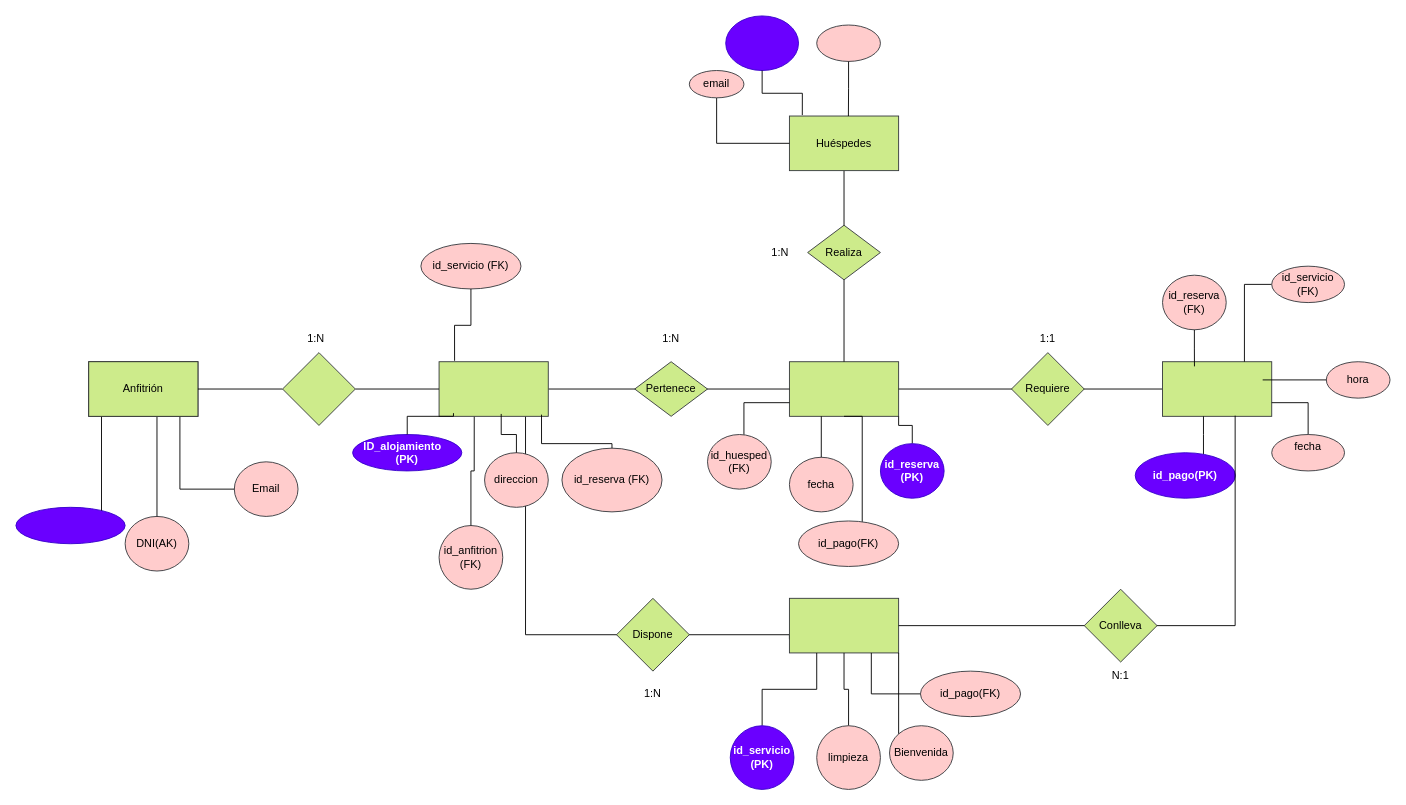
Image size: 1406x805. Some labels were removed from this diagram. The shapes that lost their labels are listed below. From the top down, each one's centre as x and y in pixels, then its label:
(x=762, y=43): id_huesped (PK)
(x=848, y=42): DNI (AK)
(x=318, y=388): Tiene
(x=493, y=388): Alojamiento
(x=844, y=388): Reserva
(x=1217, y=388): Pago
(x=70, y=525): id_anfitrion ( PK)
(x=844, y=625): Servicio
